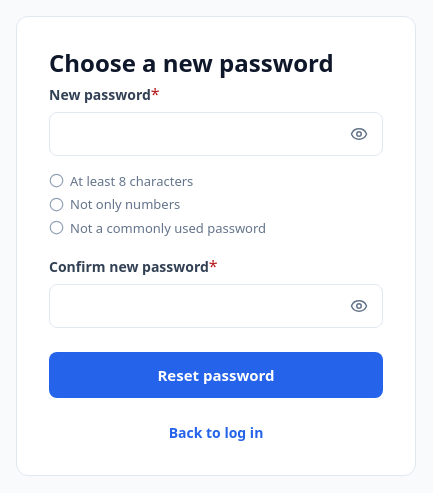
Test: ResetPasswordPage › submits the new password with the token from the URL once valid
Type "CorrectHorseBattery9" into the password field labelled "New password".
click(216, 134); type("CorrectHorseBattery9")  # box [49,112,383,156]
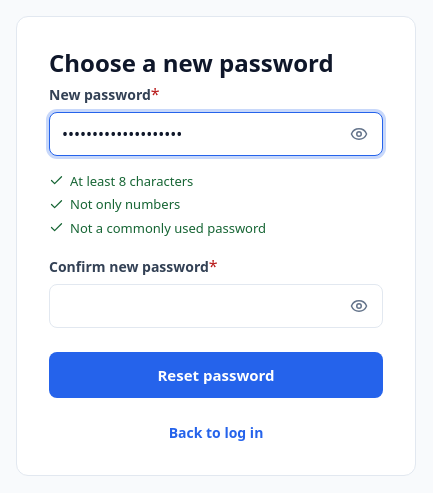
Type "CorrectHorseBattery9" into the password field labelled "Confirm new password".
click(216, 306); type("CorrectHorseBattery9")  # box [49,284,383,328]
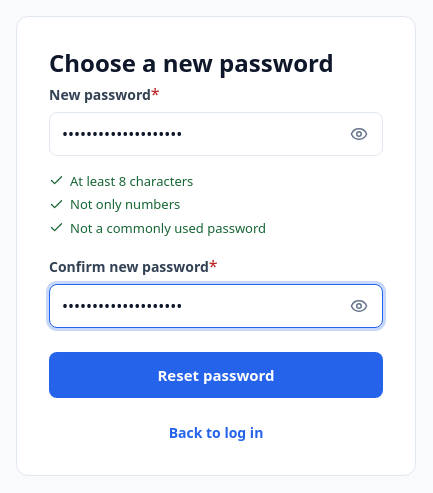
Click the button "Reset password".
click(216, 375)  # box [49,352,383,398]
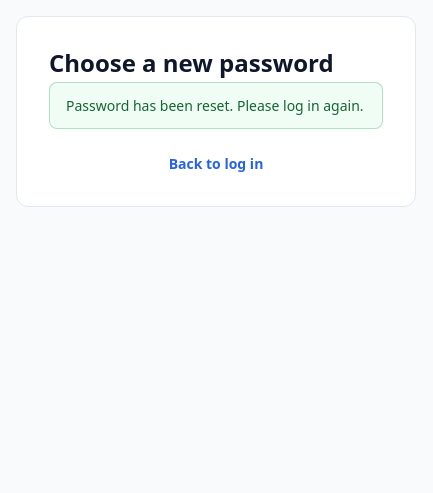
Check: the text "Password has been reset. Please log in again." is shown, box [49,82,383,129]
